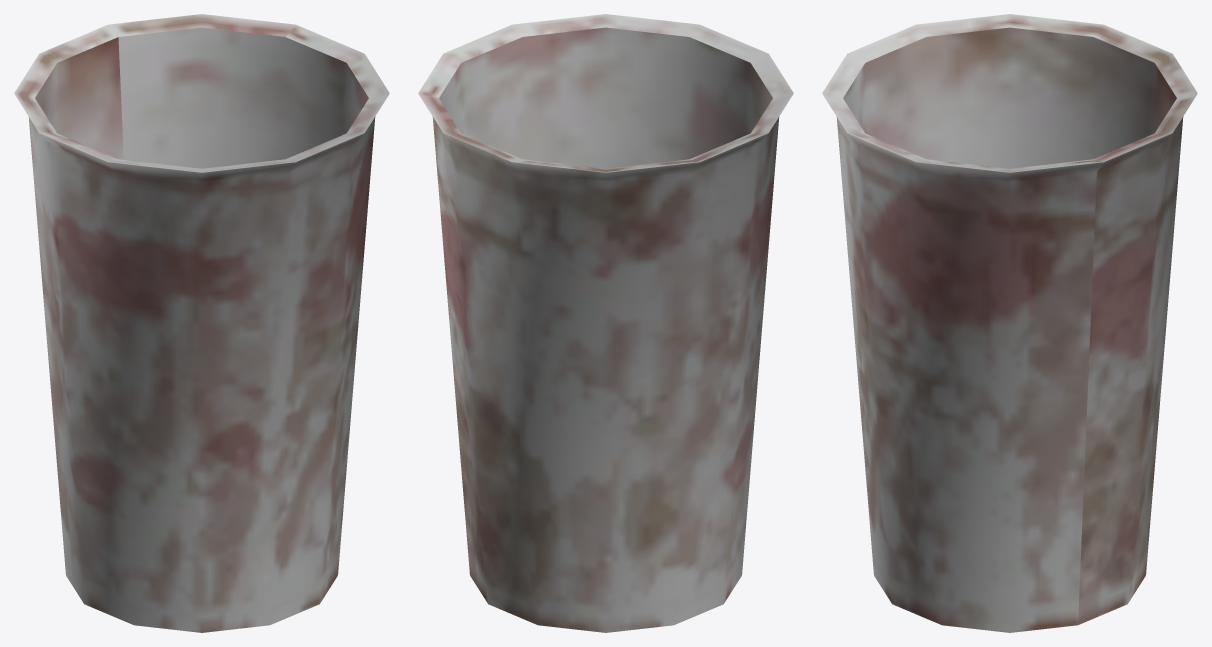
Rendered from SM_TrashScrapCup_01_C.fbx.
3 views of the same model, side by side, from view 1: azimuth 30°, elevation 25°; view 2: azimuth 150°, elevation 25°; view 3: azimuth 270°, elevation 25° (orthographic).
Parts seen in each view (by area): view 1: SM_TrashScrapCup_01_C; view 2: SM_TrashScrapCup_01_C; view 3: SM_TrashScrapCup_01_C.
Boxes of the visible parts, x1=… form: SM_TrashScrapCup_01_C: x1=14, y1=14, x2=389, y2=632; SM_TrashScrapCup_01_C: x1=418, y1=14, x2=793, y2=632; SM_TrashScrapCup_01_C: x1=822, y1=14, x2=1197, y2=632.
Bounding box in the file's own units: 6.5 × 6.5 × 9.19.
Materials: 1 (1 with a texture image).
